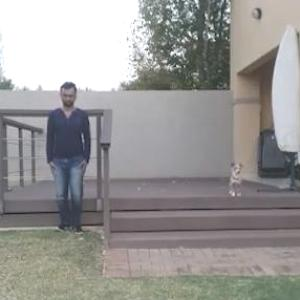follow: (45, 74, 92, 244)
